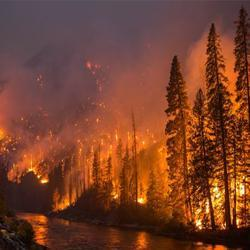fire: (210, 185, 224, 201), (197, 212, 204, 231), (135, 196, 148, 206), (39, 176, 49, 185), (26, 167, 36, 171)
